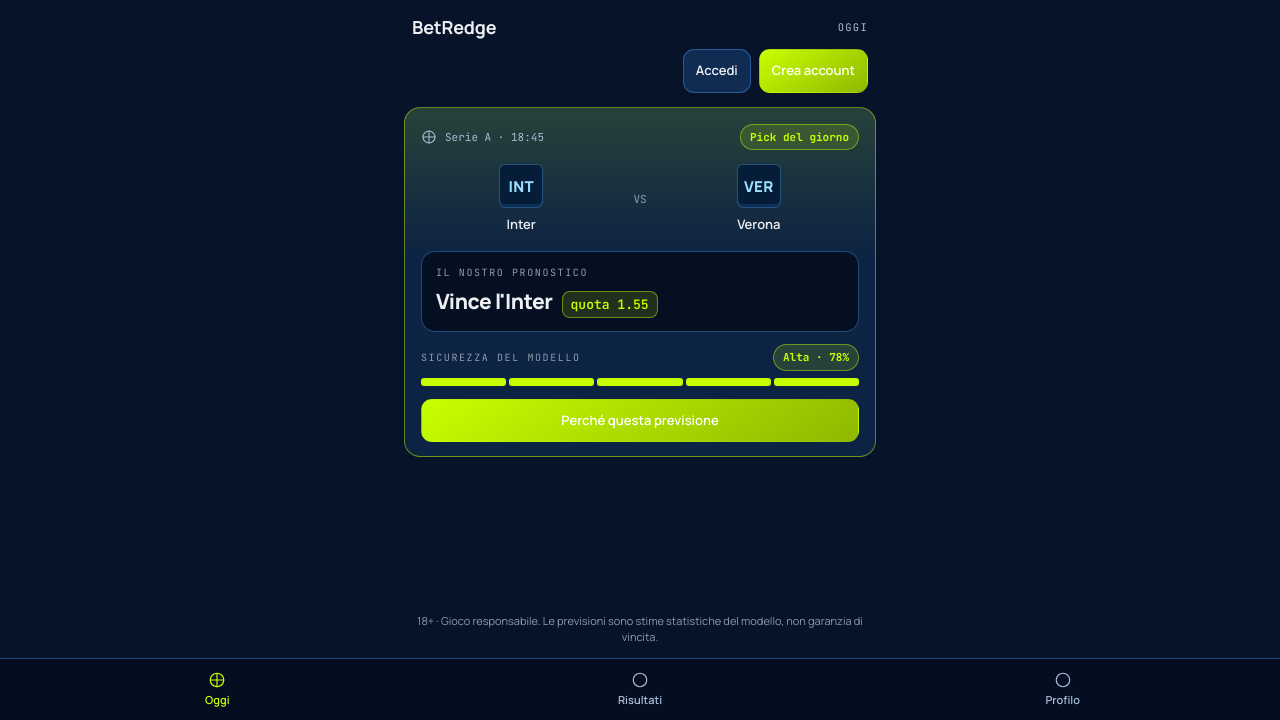
Test case: FeedScreen › apre la scheda (Sheet) al click su 'Perché questa previsione'
Step 1. Click the button "Perché questa previsione" → (640, 420), box [421,398,859,442]
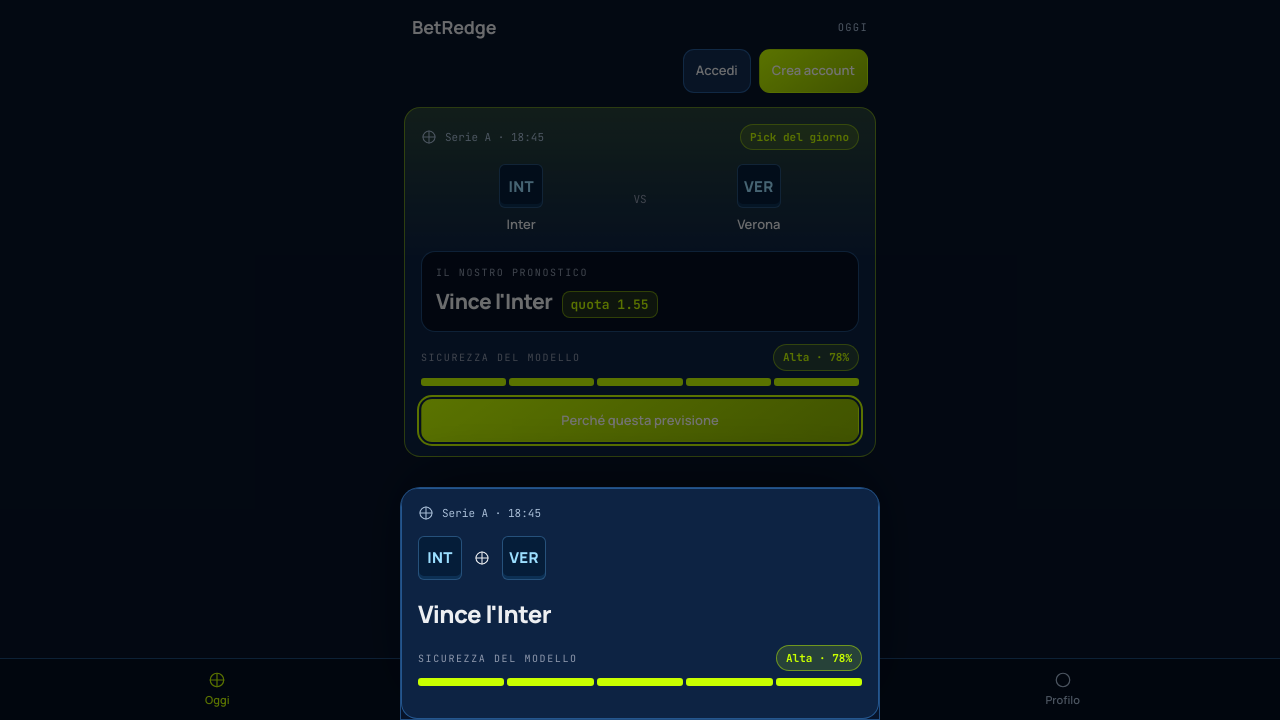
expect the dialog "Vince l'Inter" is shown: met, box [400,487,880,719]
